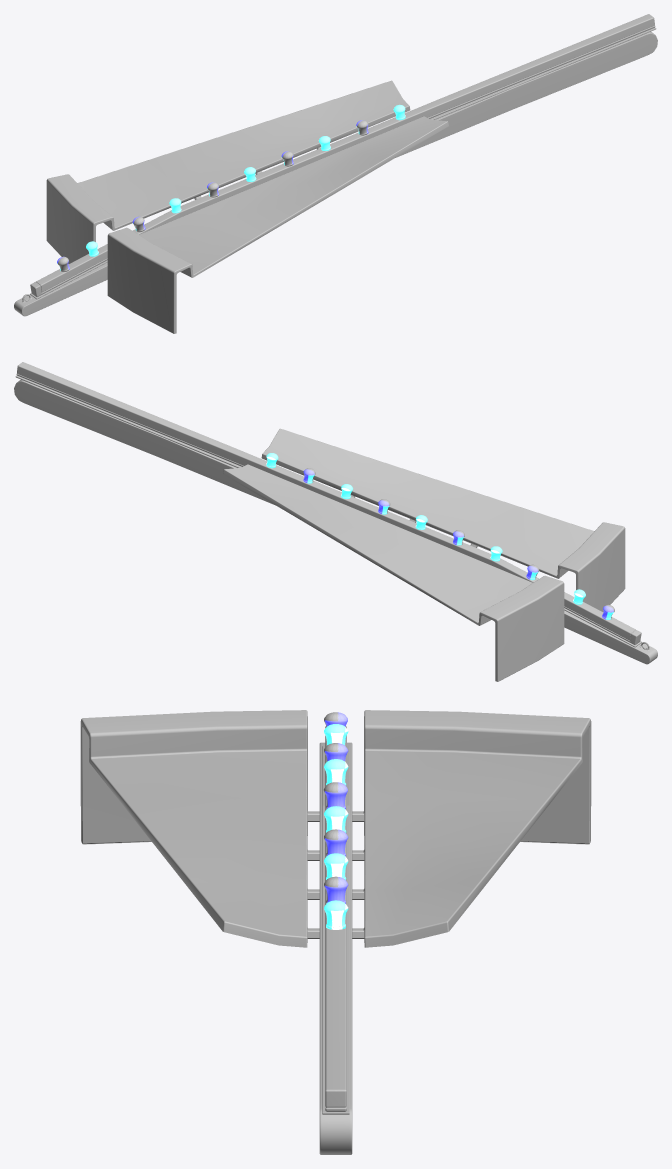
Rendered from SM_VehicleHolder_01a.fbx.
3 views of the same model, one above another, from view 1: azimuth 30°, elevation 25°; view 2: azimuth 150°, elevation 25°; view 3: azimuth 270°, elevation 25° (orthographic). The views are drawn at different scales.
Visible parts, largest first — view 1: SM_VehicleHolder_01a_LOD0; view 2: SM_VehicleHolder_01a_LOD0; view 3: SM_VehicleHolder_01a_LOD0.
Part boxes in pixels (box(x1,y1,x2,y2)): SM_VehicleHolder_01a_LOD0: box(14, 14, 657, 333); SM_VehicleHolder_01a_LOD0: box(14, 362, 657, 681); SM_VehicleHolder_01a_LOD0: box(80, 710, 591, 1154).
Size of the model in its own units: 667 by 232 by 145.
